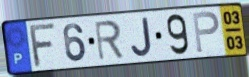6: (62, 23, 88, 64)
9: (165, 13, 190, 56)
F: (28, 21, 58, 69)
J: (129, 15, 154, 59)
P: (191, 10, 221, 55)
R: (93, 19, 126, 63)
